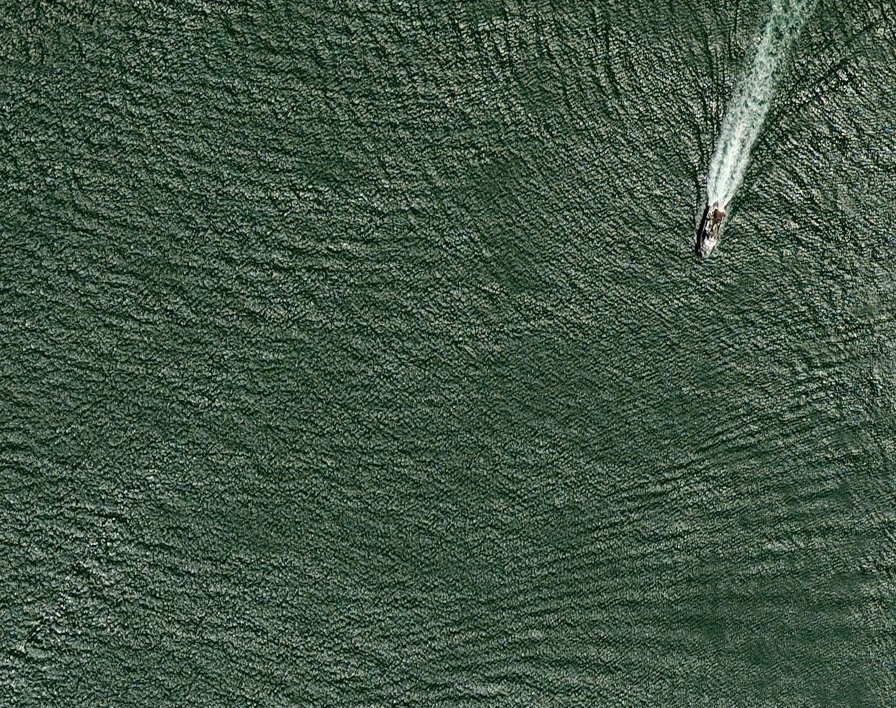ship: (688, 201, 739, 262)
